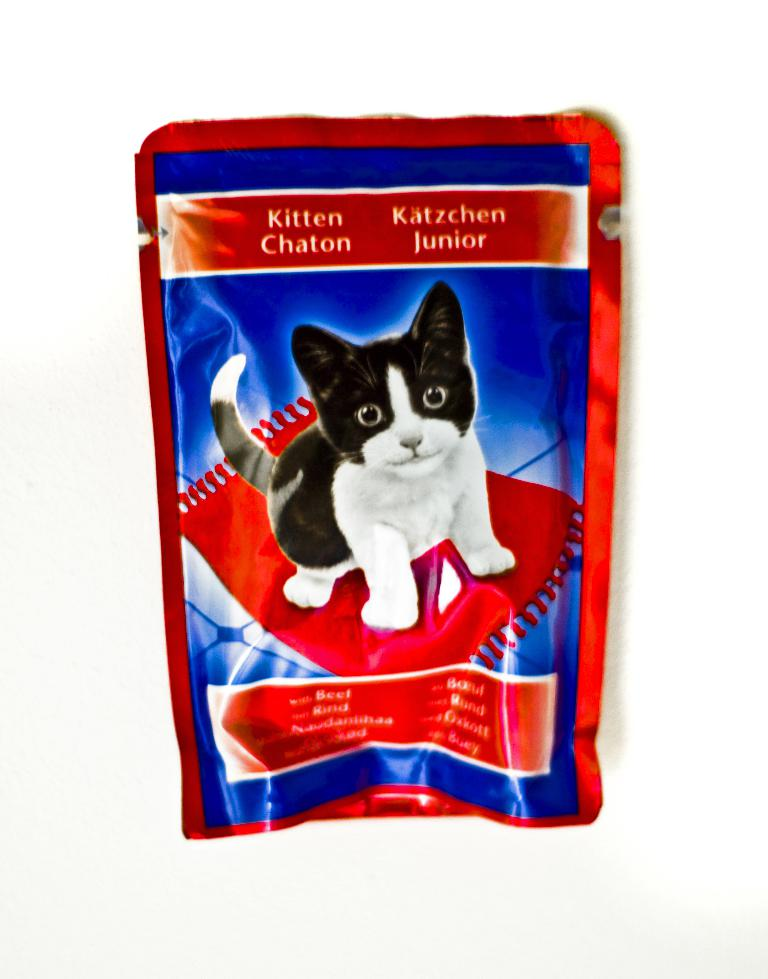cat: (191, 288, 539, 652)
